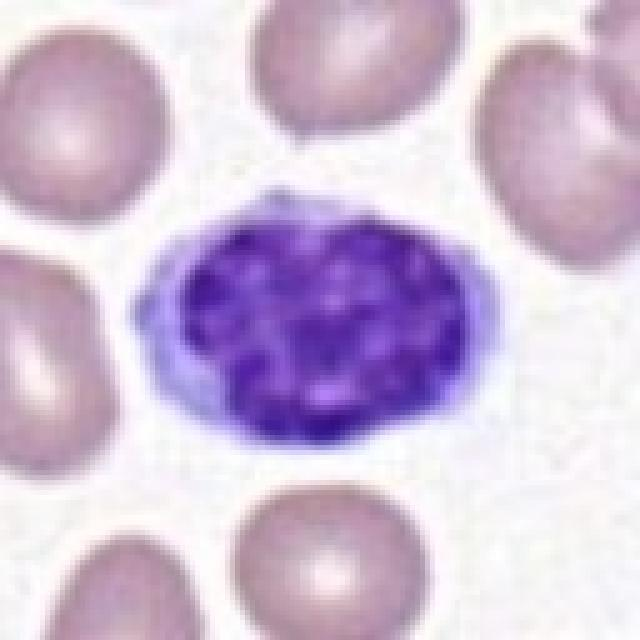lympho: (128, 177, 511, 451)
